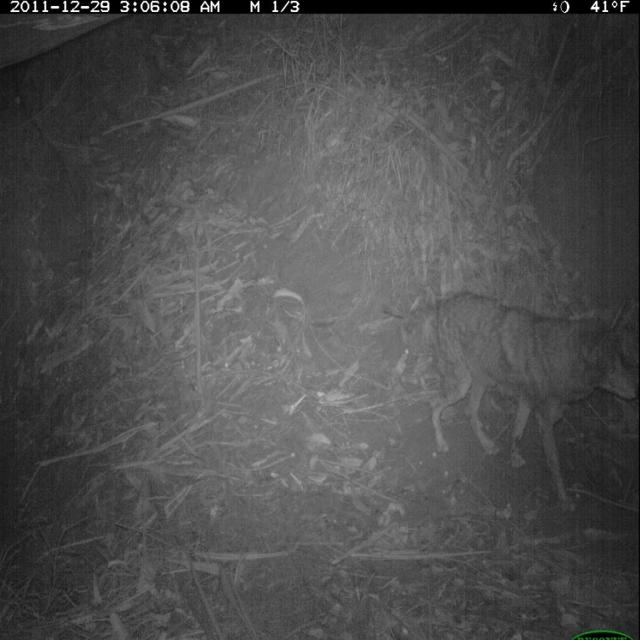coyote: (394, 286, 640, 518)
